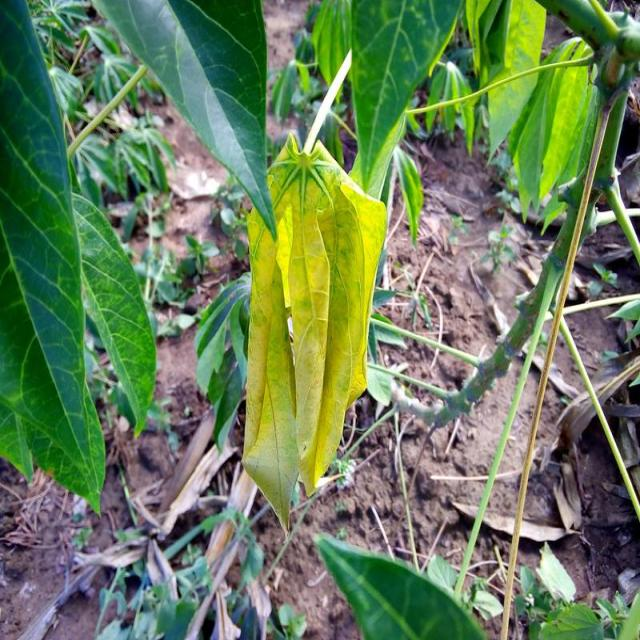cassava leaf: (240, 132, 388, 534), (0, 0, 106, 517), (90, 0, 278, 240), (68, 189, 157, 438), (311, 530, 487, 638), (506, 35, 600, 223)
